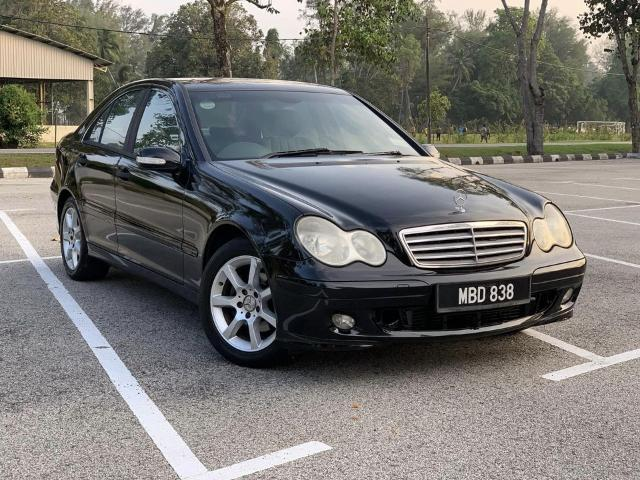License_Plate: (439, 279, 533, 311)
car: (48, 78, 588, 370)
